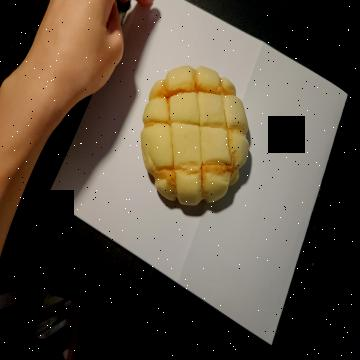melon_bread: (142, 66, 251, 207)
